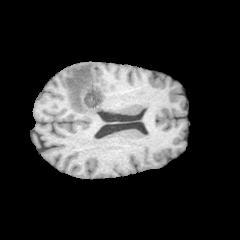glioma: (64, 63, 109, 116)
